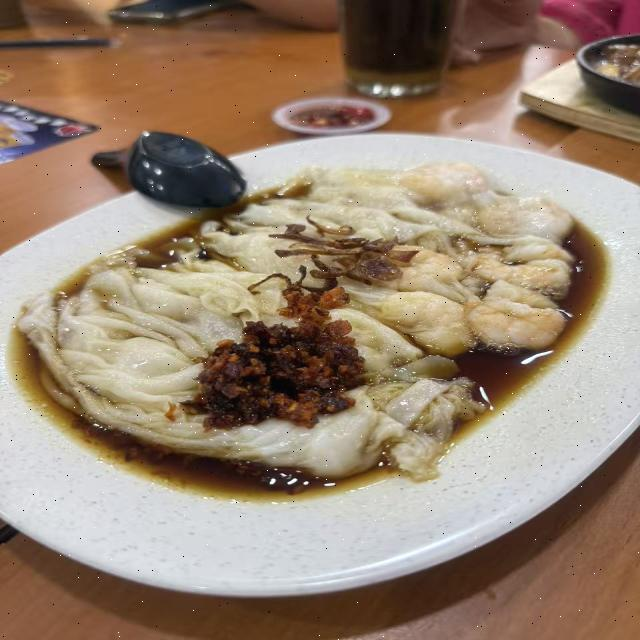Chee Cheong Fun: (11, 128, 625, 546)
